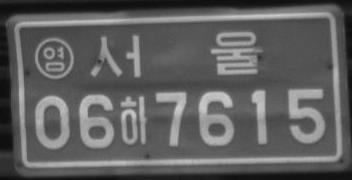0: (33, 94, 71, 150)
1: (243, 89, 278, 146)
5: (286, 87, 326, 145)
6: (197, 89, 235, 147), (78, 92, 114, 150)
7: (154, 90, 189, 146)
서울_D: (86, 29, 264, 78)
영: (33, 36, 74, 81)
하: (118, 94, 151, 146)
